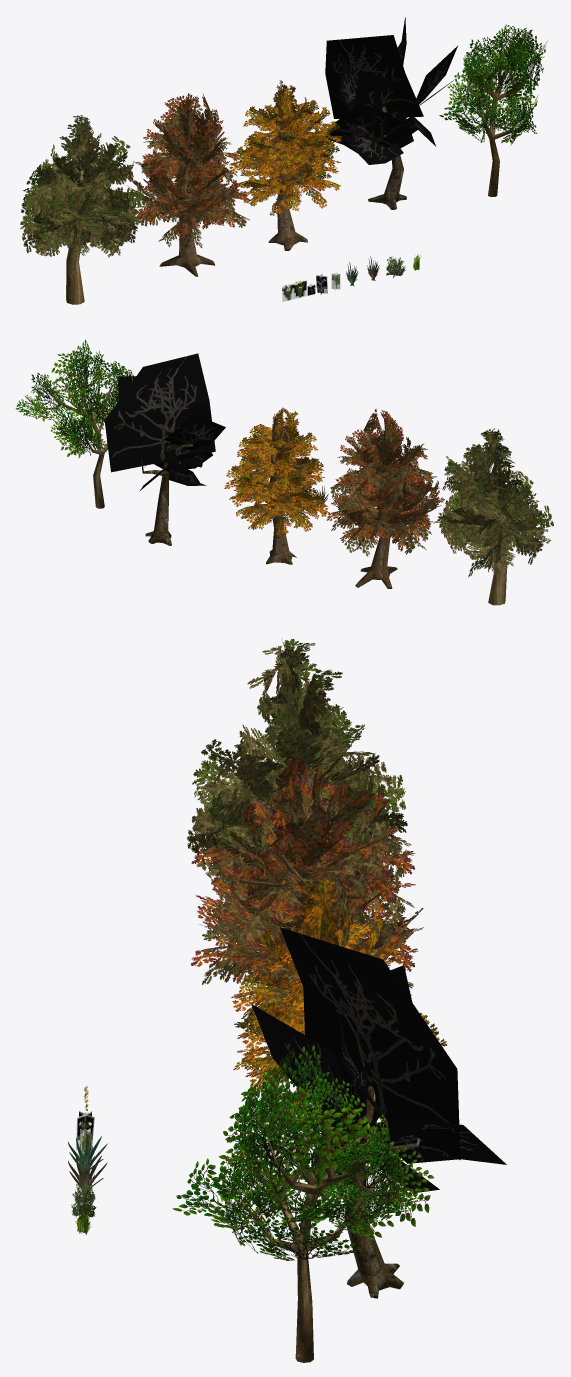
The model's file is mmc-trees-flowers-grass.fbx.
3 renders of one model, top to bottom at view 1: azimuth 30°, elevation 25°; view 2: azimuth 150°, elevation 25°; view 3: azimuth 270°, elevation 25°, orthographic. The views are drawn at different scales.
Parts seen in each view (by area): view 1: tree-stylized-04-green, tree-stylized-05-autumn-brown, tree-stylized-02-dry, tree-stylized-03-autumn-yellow, tree-stylized-01; view 2: tree-stylized-02-dry, tree-stylized-05-autumn-brown, tree-stylized-04-green, tree-stylized-03-autumn-yellow, tree-stylized-01; view 3: tree-stylized-01, tree-stylized-02-dry, tree-stylized-05-autumn-brown, tree-stylized-04-green, tree-stylized-03-autumn-yellow.
Boxes of the visible parts, <box> form: tree-stylized-04-green: <box>20,115,146,304</box>; tree-stylized-05-autumn-brown: <box>128,93,249,276</box>; tree-stylized-02-dry: <box>324,17,457,209</box>; tree-stylized-03-autumn-yellow: <box>229,80,342,250</box>; tree-stylized-01: <box>439,24,547,196</box>; tree-stylized-02-dry: <box>104,353,225,545</box>; tree-stylized-05-autumn-brown: <box>326,409,444,588</box>; tree-stylized-04-green: <box>437,428,553,605</box>; tree-stylized-03-autumn-yellow: <box>224,407,329,564</box>; tree-stylized-01: <box>15,339,133,508</box>; tree-stylized-01: <box>172,1045,433,1362</box>; tree-stylized-02-dry: <box>251,927,506,1298</box>; tree-stylized-05-autumn-brown: <box>191,757,423,1096</box>; tree-stylized-04-green: <box>187,638,409,979</box>; tree-stylized-03-autumn-yellow: <box>231,875,447,1194</box>.
Size of the model in its own units: 2578 by 874 by 970.
Materials: 20 (20 with a texture image).
